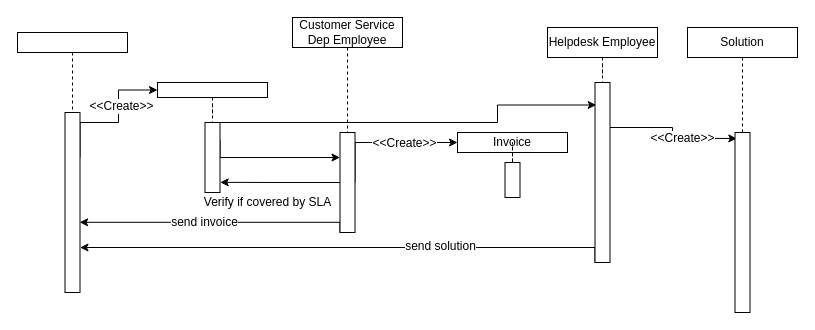
Image size: 815x330. Some labels were removed from this diagram. The shapes that lost their labels are listed below. From the top down, each one's centre as x and y in pixels, then its label:
the point at 72,42: Customer
the point at 212,90: Ticket
